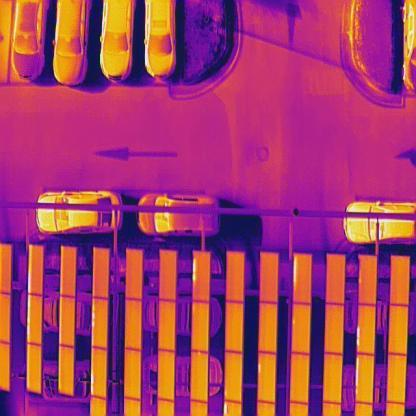Diode: (356, 304, 376, 353), (356, 355, 374, 404), (294, 255, 312, 303), (194, 252, 210, 302), (92, 299, 108, 348), (92, 346, 107, 396), (28, 246, 43, 294), (28, 295, 42, 346)
Hotspot: (259, 351, 277, 402)
Normal: (260, 252, 280, 302), (390, 256, 410, 306), (326, 254, 346, 303), (358, 256, 378, 304), (226, 252, 245, 302), (225, 302, 244, 352), (325, 304, 344, 354), (192, 300, 210, 352), (160, 249, 178, 300), (158, 300, 176, 351), (259, 302, 277, 353), (292, 302, 310, 353), (224, 351, 242, 402), (324, 353, 342, 404), (125, 250, 143, 300), (292, 353, 310, 403), (192, 351, 209, 402), (390, 306, 408, 354), (388, 356, 406, 404), (124, 300, 141, 350), (124, 348, 141, 398), (158, 350, 174, 402), (60, 293, 75, 348), (60, 247, 76, 298), (94, 247, 110, 298), (27, 344, 42, 392), (60, 344, 74, 395)
